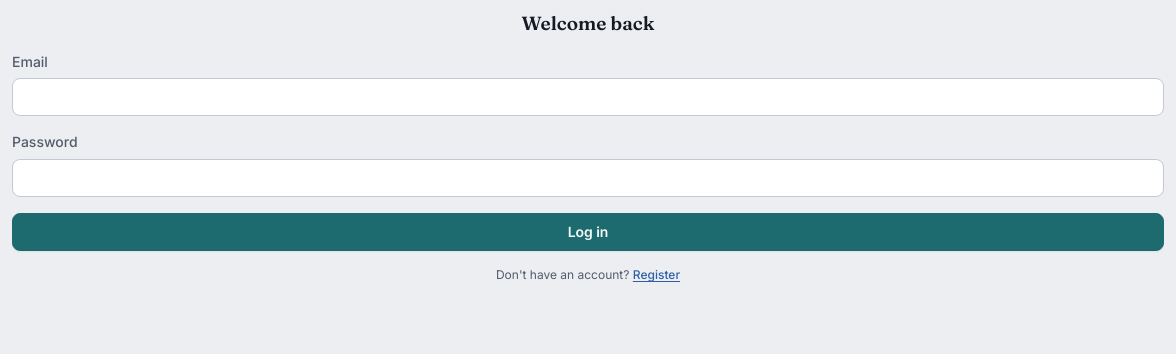
Test: LoginForm › submits normalized credentials and surfaces a friendly message on 401
The image size is (1176, 354).
Type "person@example.com" into the field labelled "Email" at (588, 97), box [12,78,1164,116]
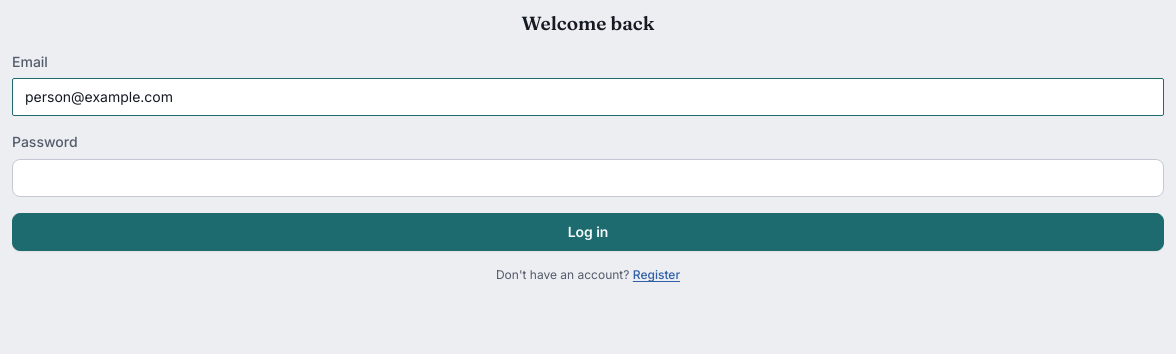
Type "correcthorsebattery" into the password field labelled "Password" at (588, 178), box [12,159,1164,197]
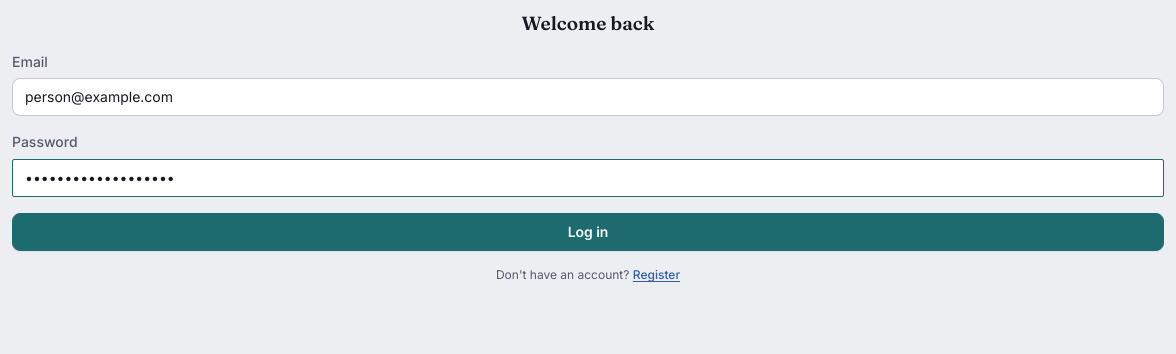
Click the button "Log in" at (588, 232), box [12,213,1164,251]
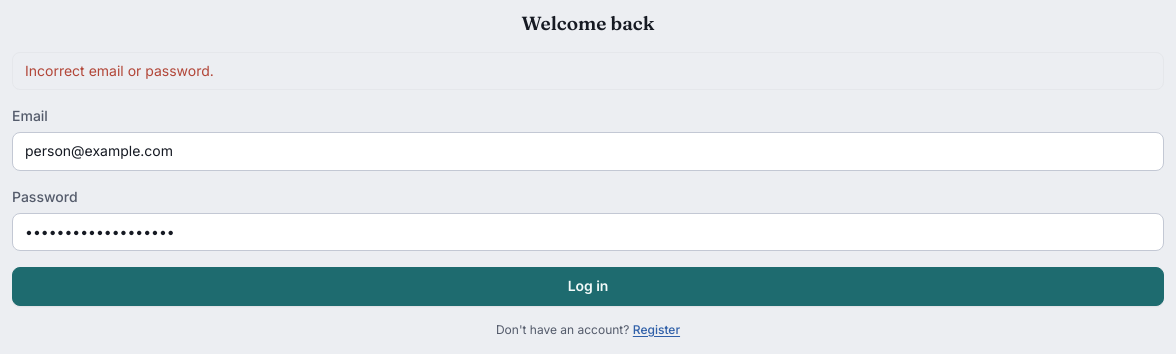
Expected: the text "Incorrect email or password." is shown, [12,52,1164,90]
